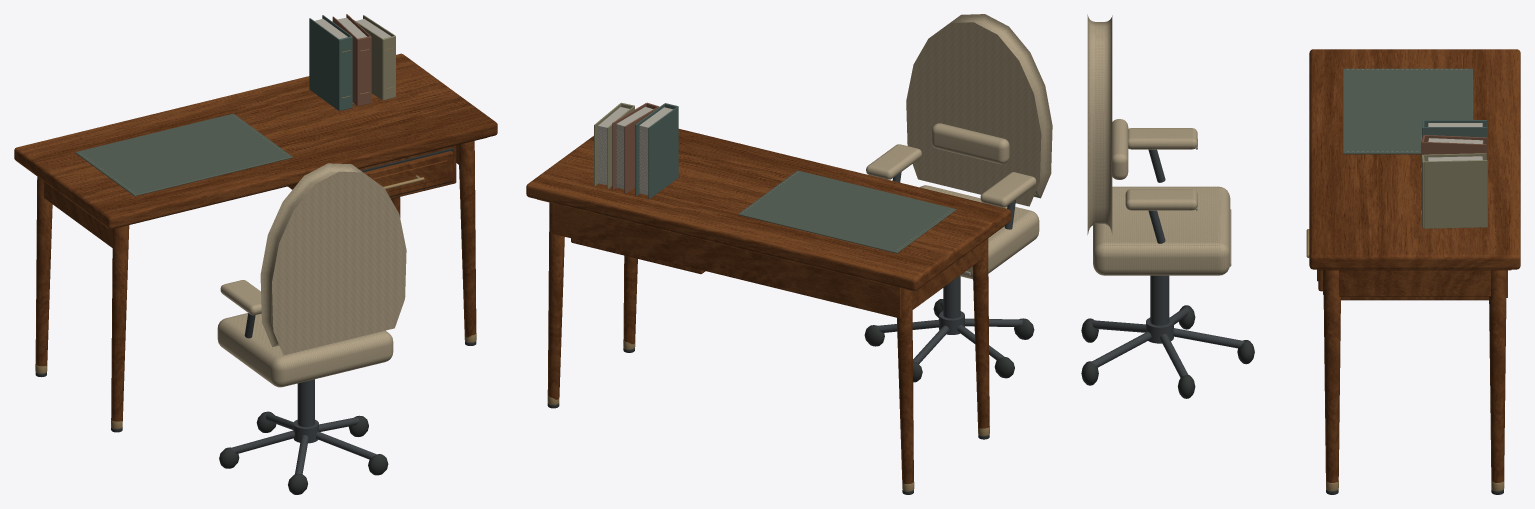
Rendered from c15_furniture_original.glb.
3 views of the same model, side by side, from view 1: azimuth 30°, elevation 25°; view 2: azimuth 150°, elevation 25°; view 3: azimuth 270°, elevation 25° (orthographic). The views are drawn at different scales.
Visible parts, largest first — view 1: C15_Desk_oiled_walnut_PBR_Wood026, C15_Chair_woven_oatmeal, C15_Desk_olive_leather_desk_pad, C15_Desk_C15_Original_book_cloth_0, C15_Chair_C15_Chair_SatinDarkMetal, C15_Desk_C15_Original_book_cloth_2, C15_Chair_felt_and_foot_pads, C15_Desk_C15_Original_book_cloth_1, C15_Desk_warm_paper, C15_Desk_felt_and_foot_pads, C15_Desk_satin_bronze; view 2: C15_Desk_oiled_walnut_PBR_Wood026, C15_Chair_woven_oatmeal, C15_Desk_olive_leather_desk_pad, C15_Desk_C15_Original_book_cloth_0, C15_Chair_C15_Chair_SatinDarkMetal, C15_Desk_warm_paper, C15_Desk_C15_Original_book_cloth_1, C15_Chair_felt_and_foot_pads, C15_Desk_C15_Original_book_cloth_2, C15_Desk_upholstery_piping; view 3: C15_Desk_oiled_walnut_PBR_Wood026, C15_Chair_woven_oatmeal, C15_Desk_olive_leather_desk_pad, C15_Desk_C15_Original_book_cloth_2, C15_Chair_C15_Chair_SatinDarkMetal, C15_Chair_felt_and_foot_pads, C15_Desk_C15_Original_book_cloth_1, C15_Desk_C15_Original_book_cloth_0, C15_Desk_warm_paper.
Boxes of the visible parts, box(x1,y1,x2,y2) form: C15_Desk_oiled_walnut_PBR_Wood026: box(14, 53, 497, 421); C15_Chair_woven_oatmeal: box(217, 163, 406, 387); C15_Desk_olive_leather_desk_pad: box(75, 113, 292, 196); C15_Desk_C15_Original_book_cloth_0: box(309, 15, 352, 110); C15_Chair_C15_Chair_SatinDarkMetal: box(231, 313, 376, 474); C15_Desk_C15_Original_book_cloth_2: box(353, 15, 395, 100); C15_Chair_felt_and_foot_pads: box(219, 411, 388, 494); C15_Desk_C15_Original_book_cloth_1: box(332, 14, 371, 105); C15_Desk_warm_paper: box(315, 17, 390, 38); C15_Desk_felt_and_foot_pads: box(35, 148, 476, 432); C15_Desk_satin_bronze: box(35, 47, 476, 428); C15_Desk_oiled_walnut_PBR_Wood026: box(526, 129, 1010, 484); C15_Chair_woven_oatmeal: box(866, 14, 1052, 279); C15_Desk_olive_leather_desk_pad: box(738, 170, 956, 253); C15_Desk_C15_Original_book_cloth_0: box(635, 103, 678, 199); C15_Chair_C15_Chair_SatinDarkMetal: box(876, 172, 1022, 363); C15_Desk_warm_paper: box(598, 107, 672, 195); C15_Desk_C15_Original_book_cloth_1: box(612, 102, 659, 193); C15_Chair_felt_and_foot_pads: box(864, 299, 1034, 382); C15_Desk_C15_Original_book_cloth_2: box(594, 102, 634, 188); C15_Desk_upholstery_piping: box(598, 130, 951, 249); C15_Desk_oiled_walnut_PBR_Wood026: box(1309, 49, 1520, 482); C15_Chair_woven_oatmeal: box(1087, 14, 1230, 275); C15_Desk_olive_leather_desk_pad: box(1343, 68, 1472, 154); C15_Desk_C15_Original_book_cloth_2: box(1421, 153, 1487, 228); C15_Chair_C15_Chair_SatinDarkMetal: box(1091, 149, 1244, 377); C15_Chair_felt_and_foot_pads: box(1081, 305, 1254, 398); C15_Desk_C15_Original_book_cloth_1: box(1421, 135, 1487, 214); C15_Desk_C15_Original_book_cloth_0: box(1422, 120, 1487, 138); C15_Desk_warm_paper: box(1428, 123, 1483, 161).
Bounding box in the file's own units: 1.4 × 1.08 × 1.25.
Materials: 11 (2 with a texture image).
